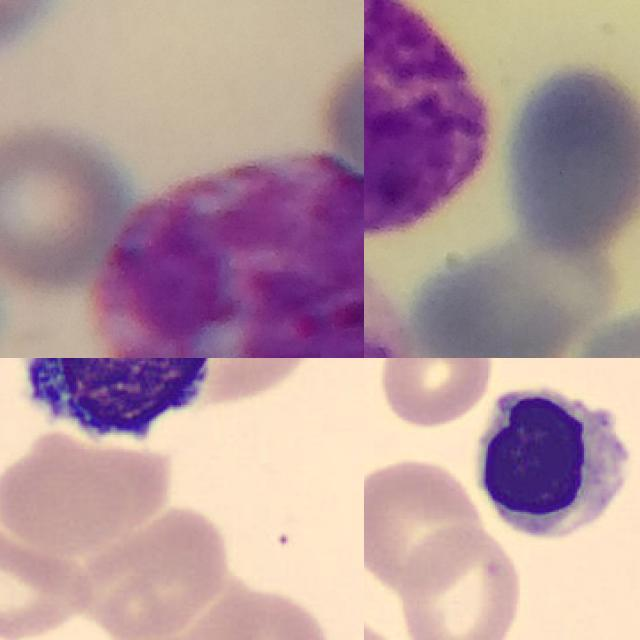Basophil: (92, 152, 364, 358), (364, 0, 493, 236)
Lymphocyte: (463, 370, 640, 547), (8, 358, 227, 454)
RBC: (0, 426, 176, 556), (364, 453, 486, 596), (395, 520, 525, 640), (0, 523, 97, 640), (173, 581, 337, 640), (372, 358, 496, 432), (184, 358, 332, 415)
